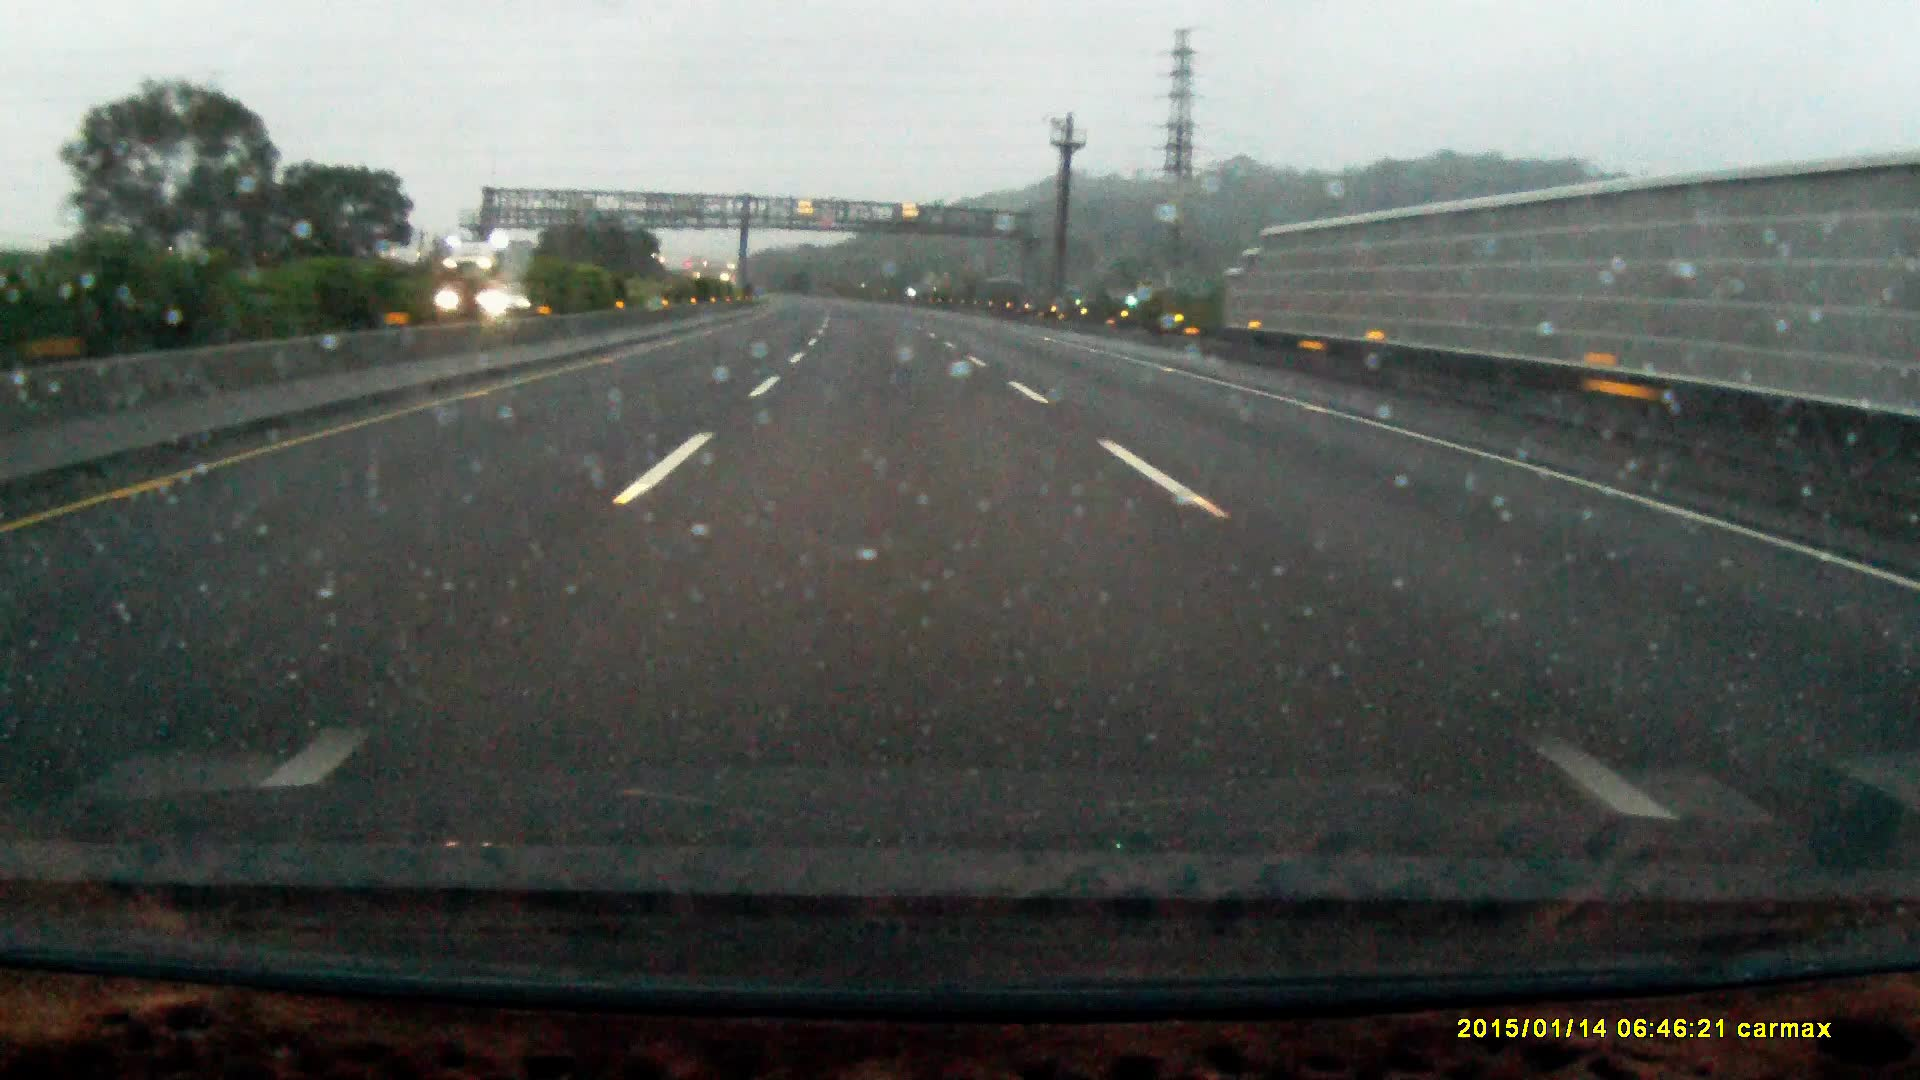vehicle: (442, 243, 541, 320), (481, 280, 562, 316)
